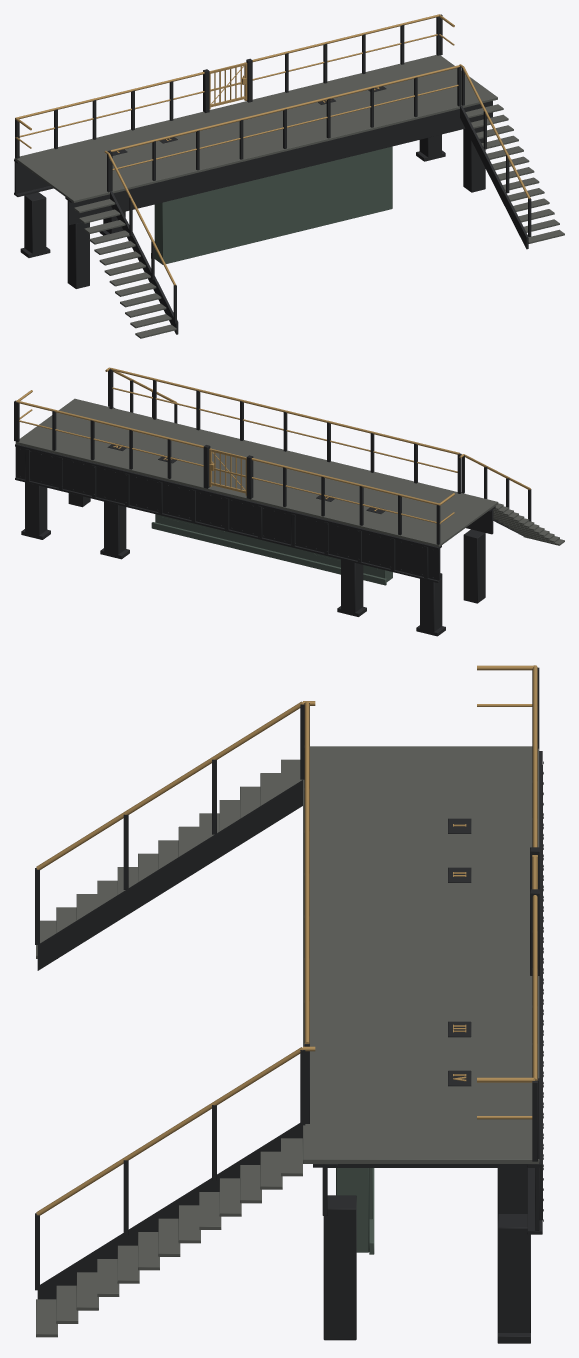
The model's file is bridge.glb.
The picture shows the model from 3 angles, top to bottom: view 1: azimuth 30°, elevation 25°; view 2: azimuth 150°, elevation 25°; view 3: azimuth 270°, elevation 25°; orthographic projection. The views are drawn at different scales.
Visible parts, largest first — view 1: bridge_deck, bridge_frame, bridge_paint, bridge_rail, catwalk_gate; view 2: bridge_frame, bridge_deck, bridge_rail, bridge_paint, catwalk_gate; view 3: bridge_deck, bridge_frame, bridge_rail, bridge_paint.
Part boxes in pixels (x1,y1,x2,y2): bridge_deck: [14, 55, 564, 338]; bridge_frame: [14, 14, 531, 334]; bridge_paint: [151, 146, 392, 264]; bridge_rail: [15, 14, 530, 285]; catwalk_gate: [209, 62, 247, 109]; bridge_frame: [14, 368, 531, 636]; bridge_deck: [15, 398, 564, 546]; bridge_rail: [16, 367, 530, 523]; bridge_paint: [151, 514, 392, 585]; catwalk_gate: [209, 448, 246, 495]; bridge_deck: [36, 746, 539, 1337]; bridge_frame: [35, 667, 543, 1343]; bridge_rail: [36, 665, 537, 1215]; bridge_paint: [336, 1168, 374, 1254].
Bounding box in the file's own units: 11.87 × 3.6 × 6.14.
